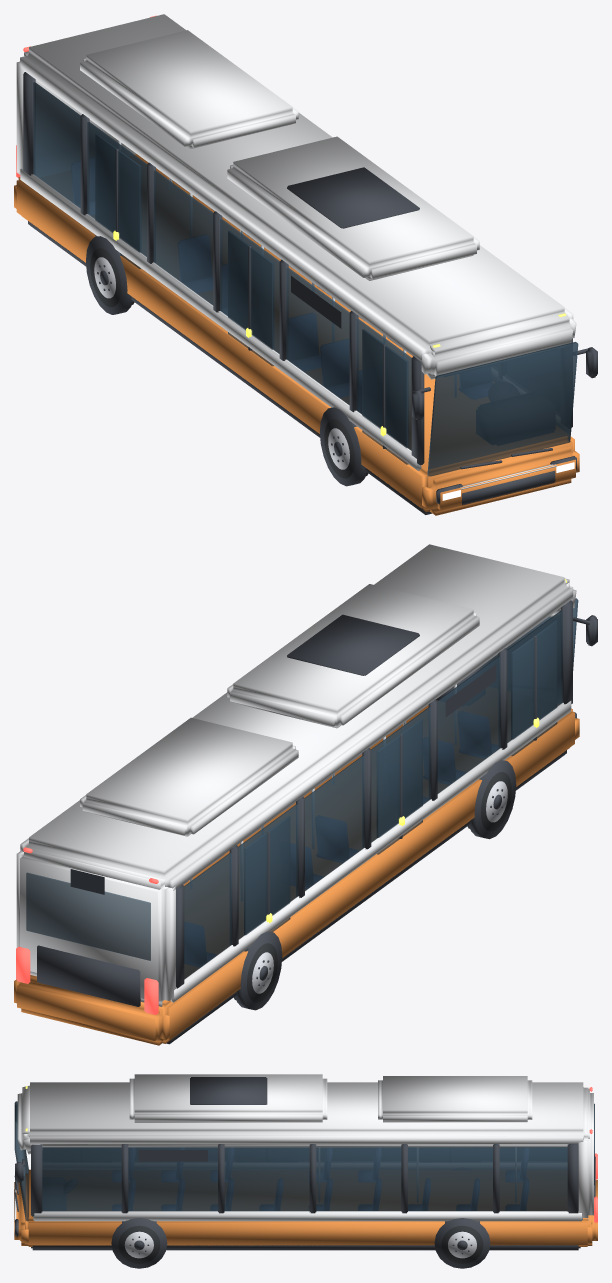
File: tpg_bus.glb
3 views of the same model, one above another, from view 1: azimuth 30°, elevation 25°; view 2: azimuth 150°, elevation 25°; view 3: azimuth 270°, elevation 25° (orthographic). The views are drawn at different scales.
Visible parts, largest first — view 1: roof_crown, glass_side_l, body_lower, roof_pod_front, roof_pod_rear, windshield_front, belt_rail_l, front_brow, roof_hvac_vent, front_bumper, door_glass_-4.65, door_glass_-0.8 (+16 smaller); view 2: roof_crown, glass_side_l, rear_upper, roof_pod_front, roof_pod_rear, body_lower, glass_rear, belt_rail_l, rear_bumper, roof_hvac_vent, door_glass_-4.65, door_glass_-0.8 (+15 smaller); view 3: glass_side_r, roof_crown, body_lower, roof_pod_front, roof_pod_rear, belt_rail_r, chassis_base, roof_hvac_vent, rear_upper, wheel_fl_arch, wheel_rl_arch, pillar_0_r (+15 smaller).
Part boxes in pixels (x1,y1,x2,y2): roof_crown: (20, 14, 573, 361); glass_side_l: (33, 82, 411, 450); body_lower: (16, 154, 574, 512); roof_pod_front: (227, 136, 479, 280); roof_pod_rear: (80, 30, 298, 148); windshield_front: (427, 342, 578, 476); belt_rail_l: (20, 168, 421, 470); front_brow: (421, 311, 576, 379); roof_hvac_vent: (287, 167, 419, 228); front_bumper: (422, 445, 579, 515); door_glass_-4.65: (362, 329, 408, 464); door_glass_-0.8: (228, 230, 273, 366); roof_crown: (20, 544, 573, 890); glass_side_l: (184, 610, 562, 979); rear_upper: (16, 845, 175, 1006); roof_pod_front: (227, 584, 479, 728); roof_pod_rear: (80, 717, 298, 836); body_lower: (30, 700, 574, 1043); glass_rear: (26, 872, 150, 960); belt_rail_l: (171, 701, 571, 1002); rear_bumper: (14, 977, 169, 1045); roof_hvac_vent: (287, 614, 419, 675); door_glass_-4.65: (511, 620, 557, 756); door_glass_-0.8: (377, 719, 422, 854); glass_side_r: (42, 1147, 567, 1211); roof_crown: (23, 1082, 589, 1147); body_lower: (25, 1169, 591, 1246); roof_pod_front: (129, 1074, 327, 1122); roof_pod_rear: (378, 1076, 532, 1122); belt_rail_r: (33, 1211, 582, 1221); chassis_base: (31, 1245, 580, 1250); roof_hvac_vent: (190, 1077, 267, 1104); rear_upper: (578, 1087, 593, 1220); wheel_fl_arch: (111, 1218, 167, 1268); wheel_rl_arch: (434, 1218, 490, 1268); pillar_0_r: (31, 1144, 42, 1216).
Size of the model in its own units: 3.02 by 3.49 by 12.11.
